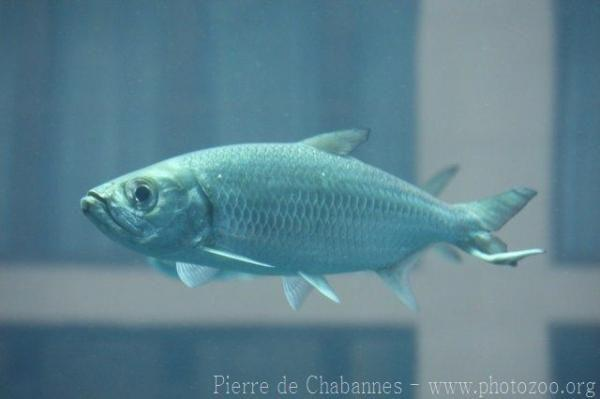Indo-Pacific Tarpon: (77, 120, 546, 316)
